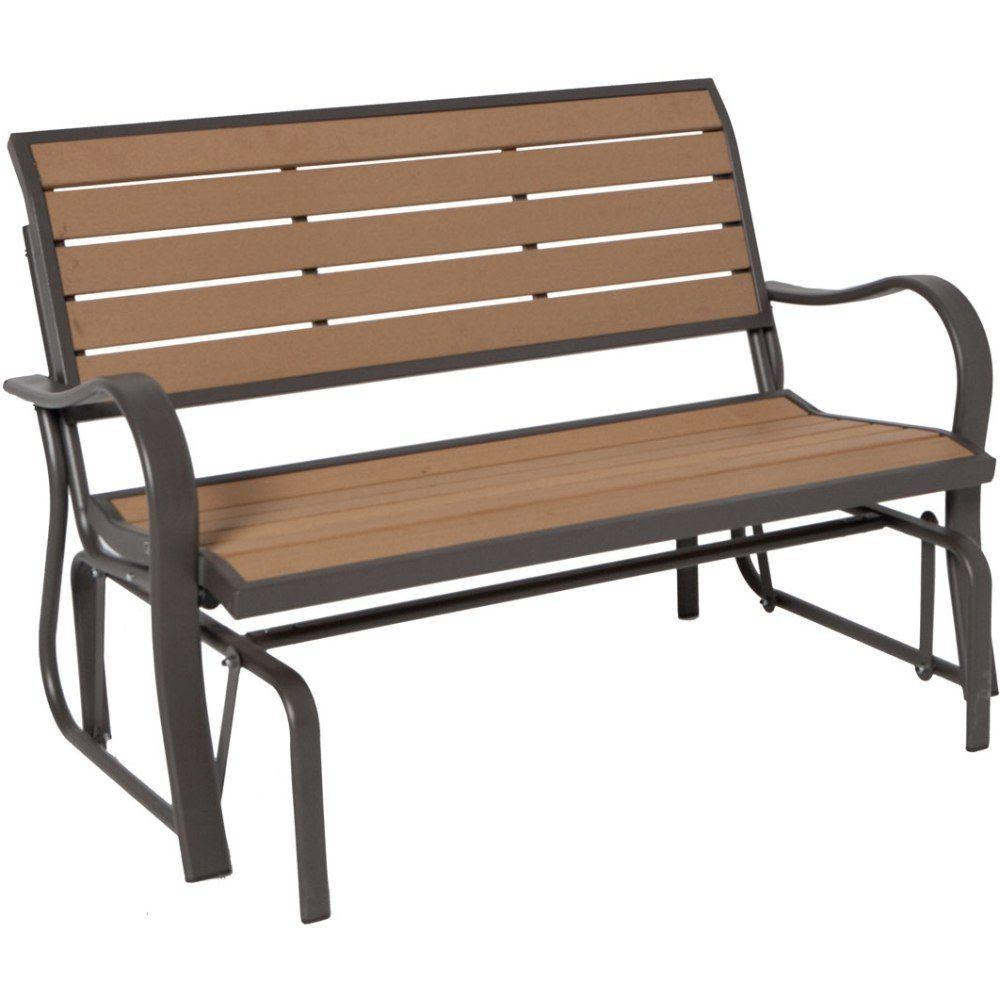chairs: (1, 78, 997, 932)
